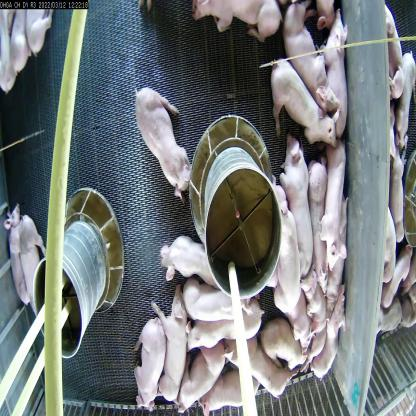Pig: (261, 62, 339, 171), (128, 77, 199, 188), (161, 225, 244, 301), (187, 0, 285, 61), (280, 140, 319, 288), (147, 276, 187, 416), (317, 0, 354, 148), (279, 0, 324, 109), (316, 141, 348, 285), (238, 330, 292, 409), (264, 307, 312, 381), (184, 276, 241, 338), (190, 304, 265, 349), (22, 193, 48, 319), (203, 359, 261, 415), (134, 316, 168, 408), (2, 203, 28, 314), (176, 348, 224, 408)
